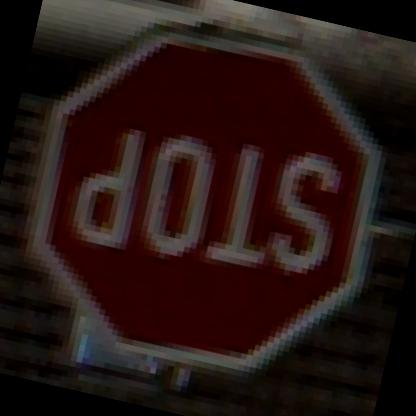stop: (1, 0, 408, 401)
